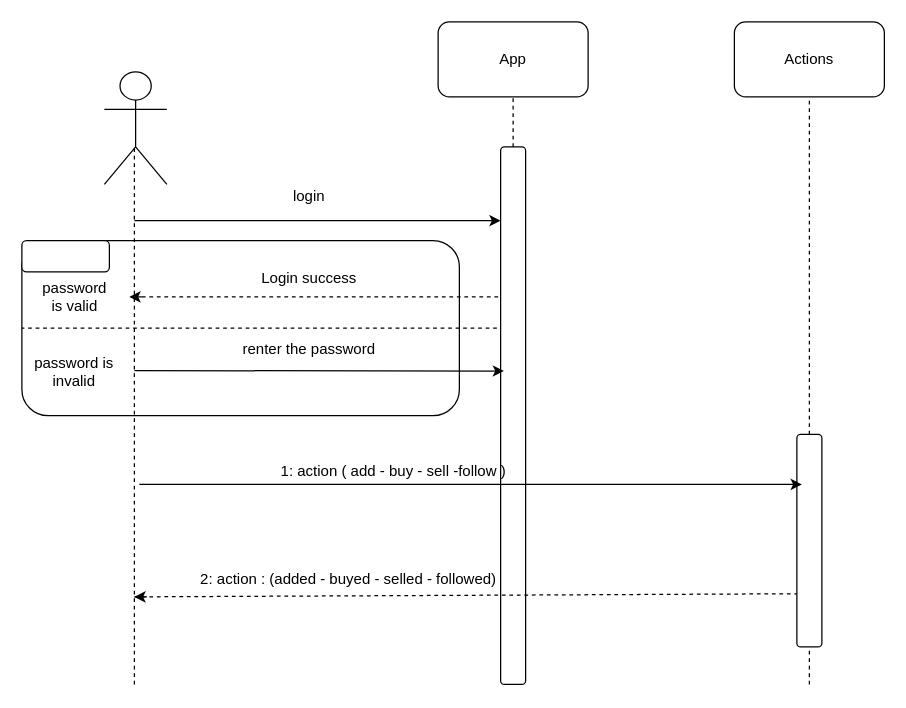
The diagram is 906 pixels wide and 708 high, and some of its shapes have lost their labels. Here are the shapes that lost their labels. From the top down, the centre of each, then its label:
point (135, 127): Actor
point (65, 255): alternative
